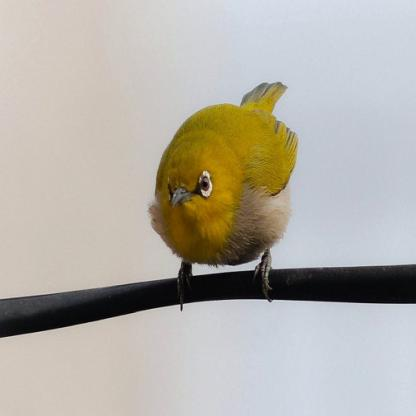Burung: (149, 82, 297, 309)
